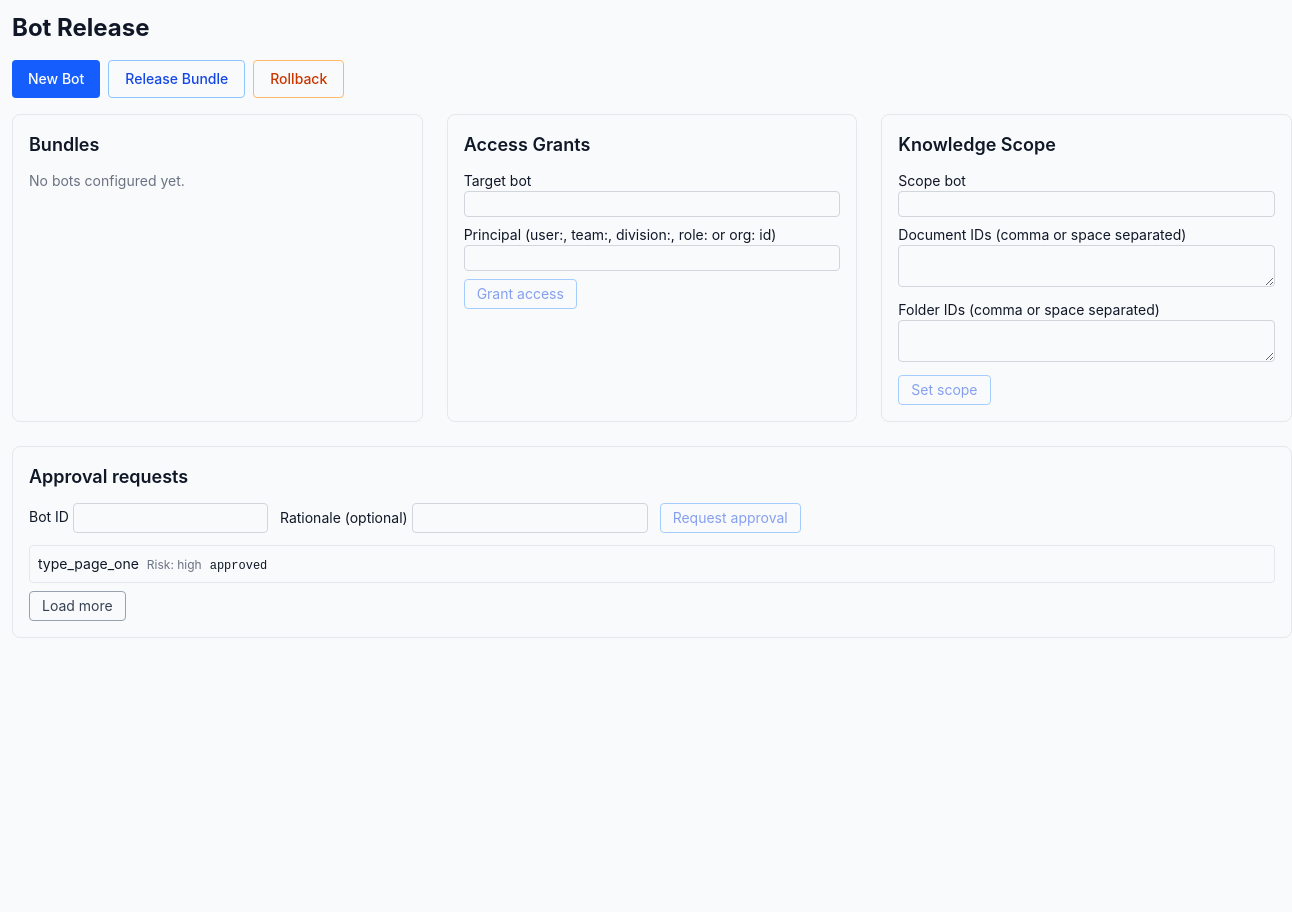
BotReleaseScreen › loads more approval requests with the next cursor
Check: the text "type_page_one" is shown, box [38,555,139,572]
Click the button "Load more" at (77, 606), box [29,591,126,621]
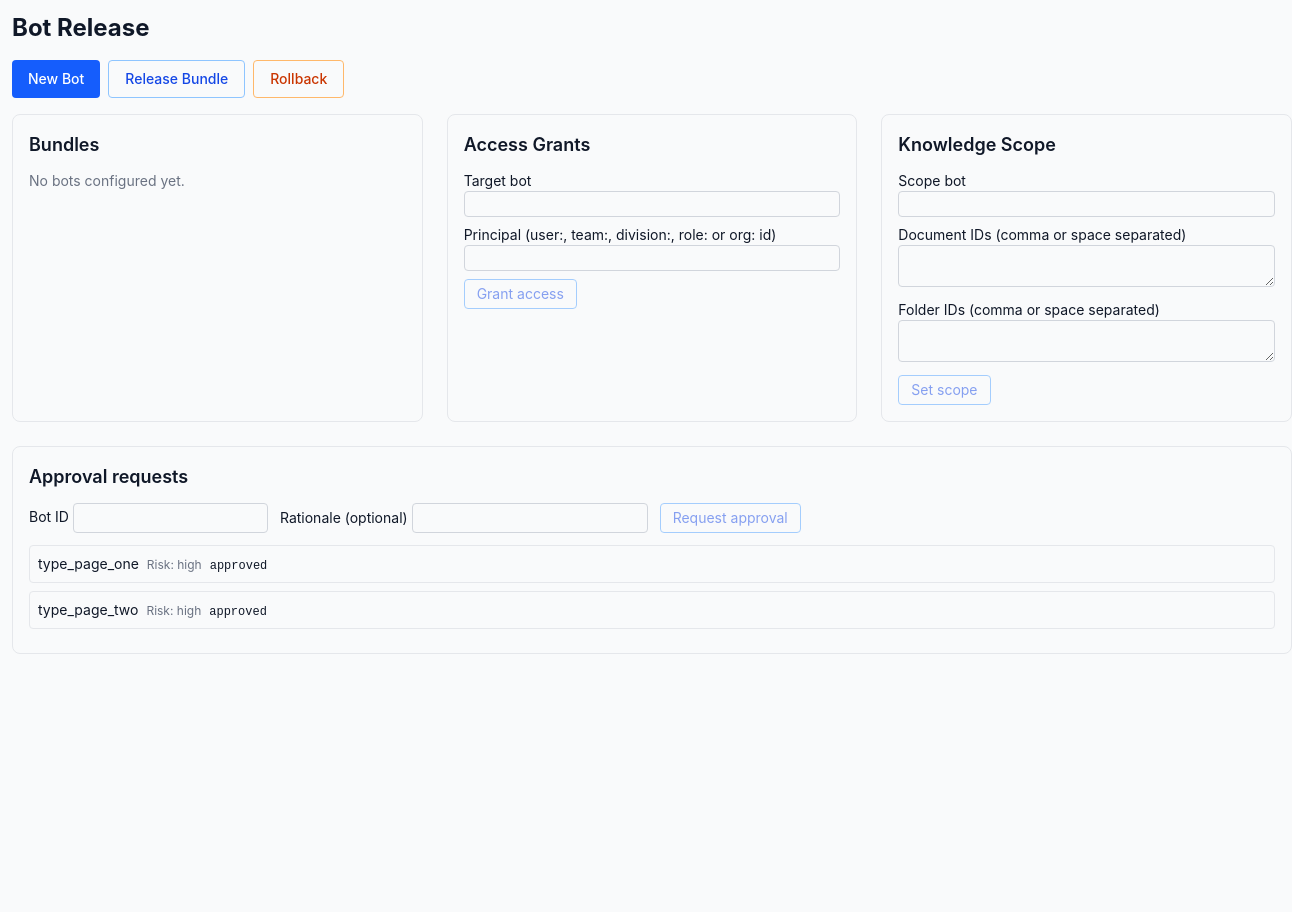
Check: the text "type_page_one" is shown, box [38,555,139,572]
Check: the text "type_page_two" is shown, box [38,601,138,618]
